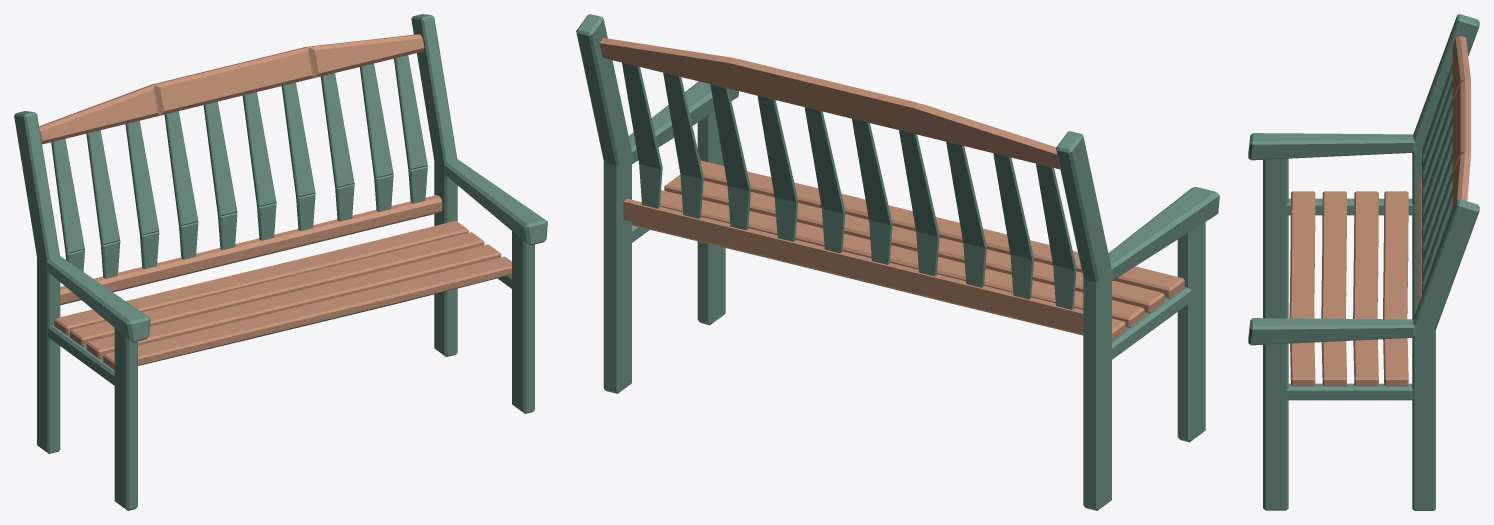
The model's file is fp_bench.glb.
3 renders of one model, left to right at view 1: azimuth 30°, elevation 25°; view 2: azimuth 150°, elevation 25°; view 3: azimuth 270°, elevation 25°, orthographic. The views are drawn at different scales.
Visible parts, largest first — view 1: bench_a001; view 2: bench_a001; view 3: bench_a001.
Boxes of the visible parts, <box> form: bench_a001: <box>14,14,547,510</box>; bench_a001: <box>576,14,1219,510</box>; bench_a001: <box>1248,14,1479,510</box>.
Size of the model in its own units: 0.38 by 0.2779 by 0.1893.
